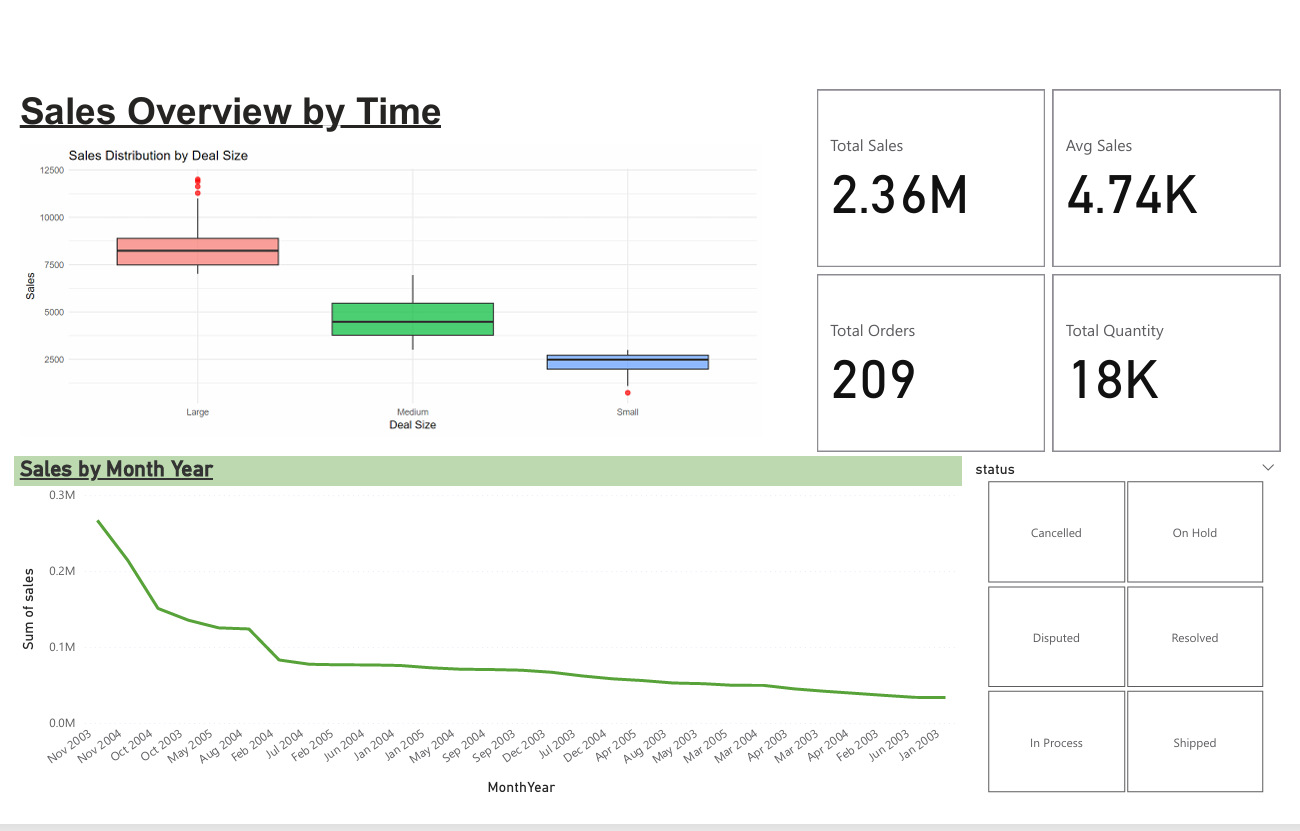

Layout of this report page (visuals, bound fields, positions):
{"tool":"powerbi","page":{"name":"Overview","canvas":[1280,720],"ordinal":1},"visuals":[{"type":"textbox","box":[0,0,543.7,53.8],"z":0},{"type":"lineChart","title":"Sales by Month Year","fields":{"Category":["Sales_data.MonthYear"],"Y":["Sum(Sales_data.sales)"]},"box":[0,374.4,954,344.6],"z":1000},{"type":"scriptVisual","fields":{"Values":["Sales_data.sales","Sales_data.dealsize"]},"box":[0,55,756.7,304.4],"z":2000},{"type":"cardVisual","fields":{"Data":["Sales_data.Total Sales","Sales_data.Avg Sales","Sales_data.Total Orders","Sales_data.Total Quantity"]},"box":[803.3,0,477.2,373.8],"z":3000},{"type":"slicer","fields":{"Values":["Sales_data.status"]},"box":[954,374.4,326.6,344.6],"z":4000}]}

Visuals, with their boxes on the page's 1280x720 design canvas (x1, y1, x2, y2). These are canvas units, not pixel positions in the 1300x831 screenshot, which may show the page scaled, cropped or inside an application window:
textbox: 0, 0, 544, 54
"Sales by Month Year" lineChart: 0, 374, 954, 719
scriptVisual - Sales_data.sales x Sales_data.dealsize: 0, 55, 757, 359
cardVisual - Sales_data.Total Sales x Sales_data.Avg Sales: 803, 0, 1280, 374
slicer - Sales_data.status: 954, 374, 1281, 719
